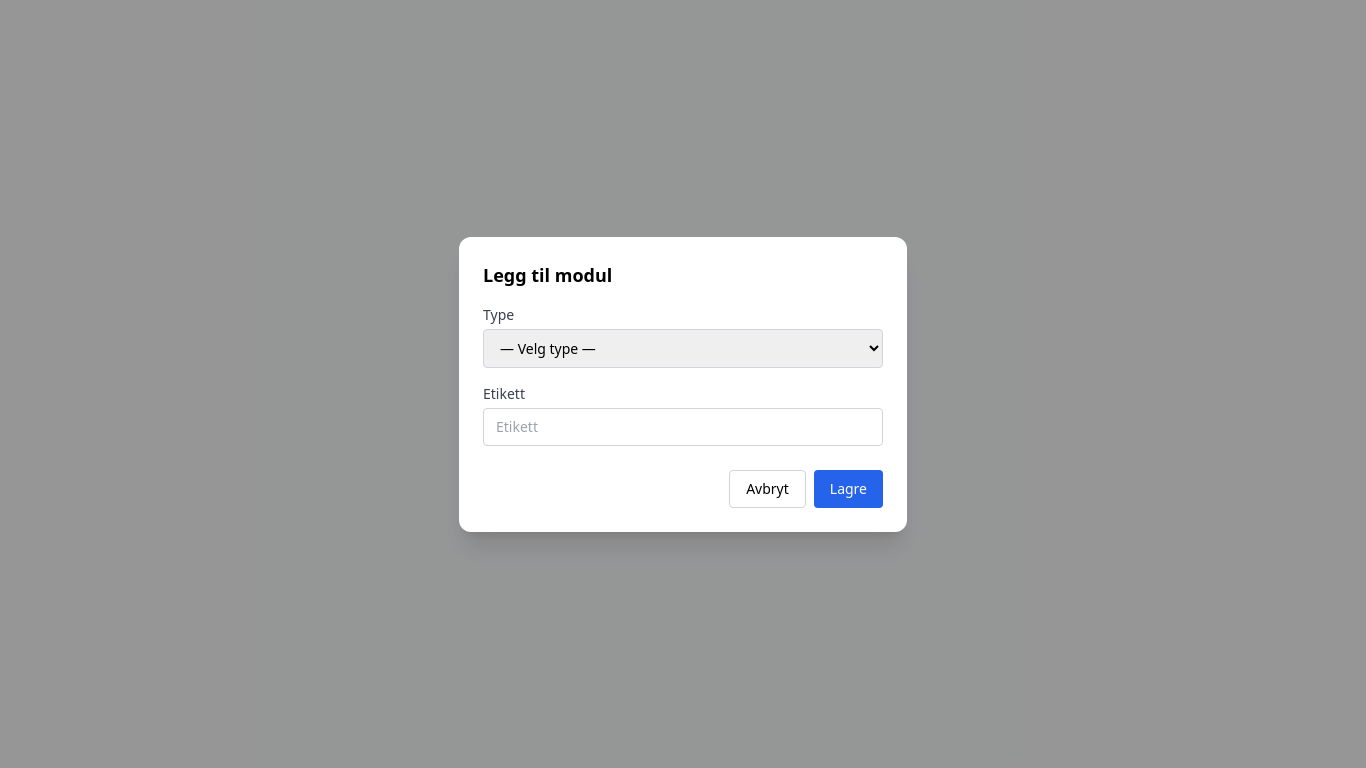
Test: lagre uten type gir valideringsfeil
Click the button "Lagre": (848, 488) [814,470,883,508]
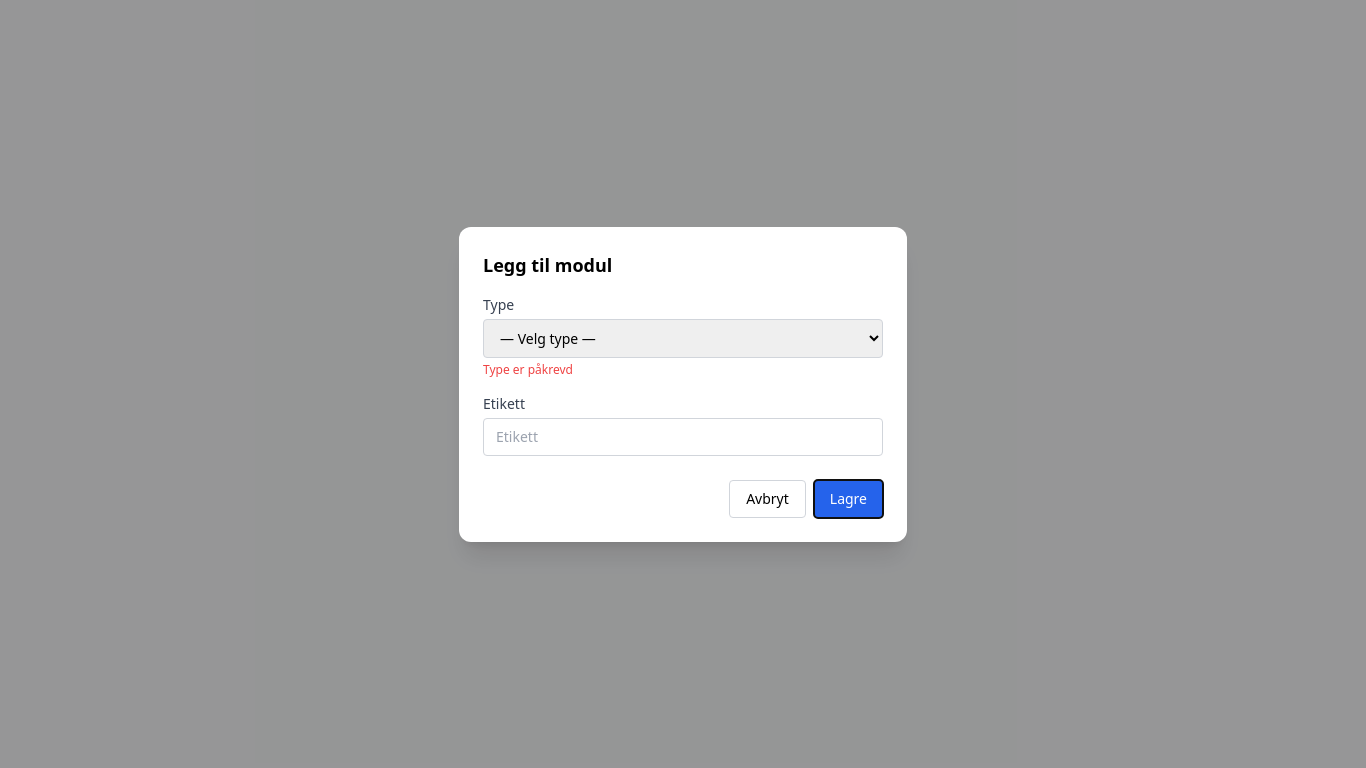
Result: the text "Type er påkrevd" is shown at [483,360,573,378]
